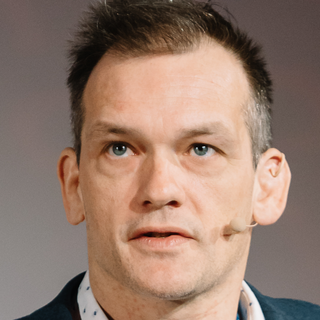eye: (98, 136, 142, 163), (179, 138, 225, 163)
